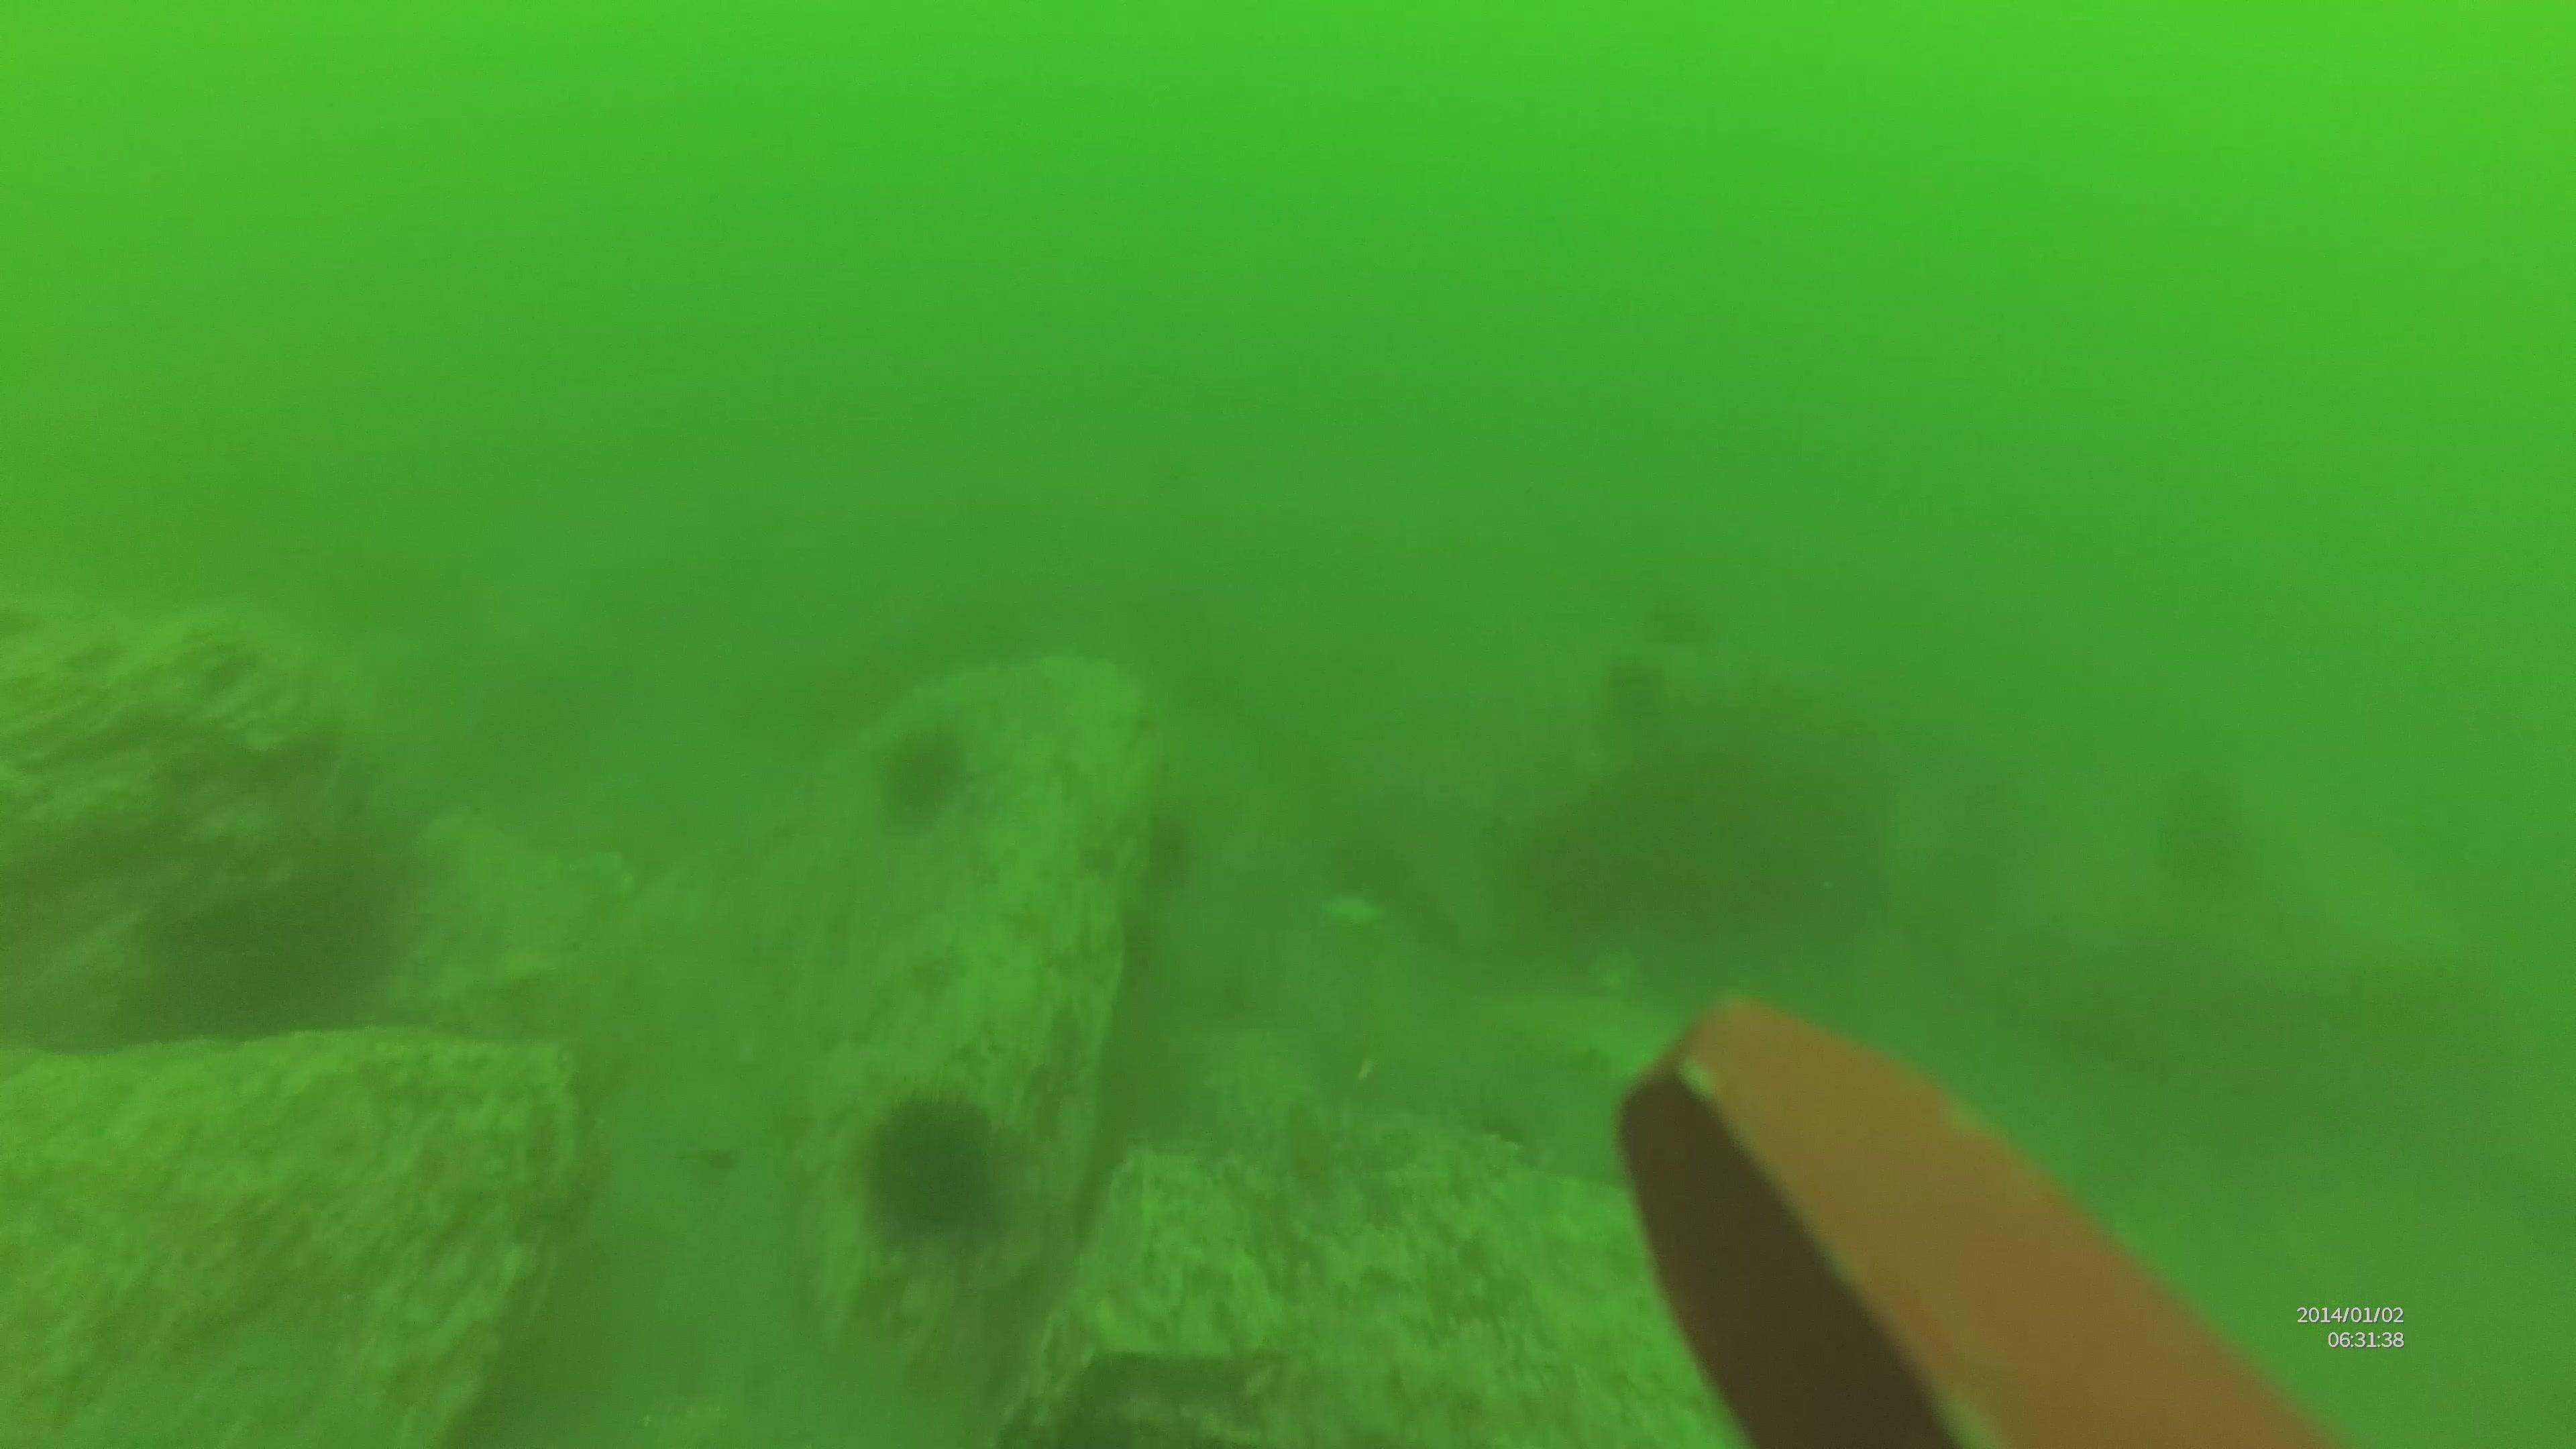echinus: (849, 1085, 1010, 1249)
